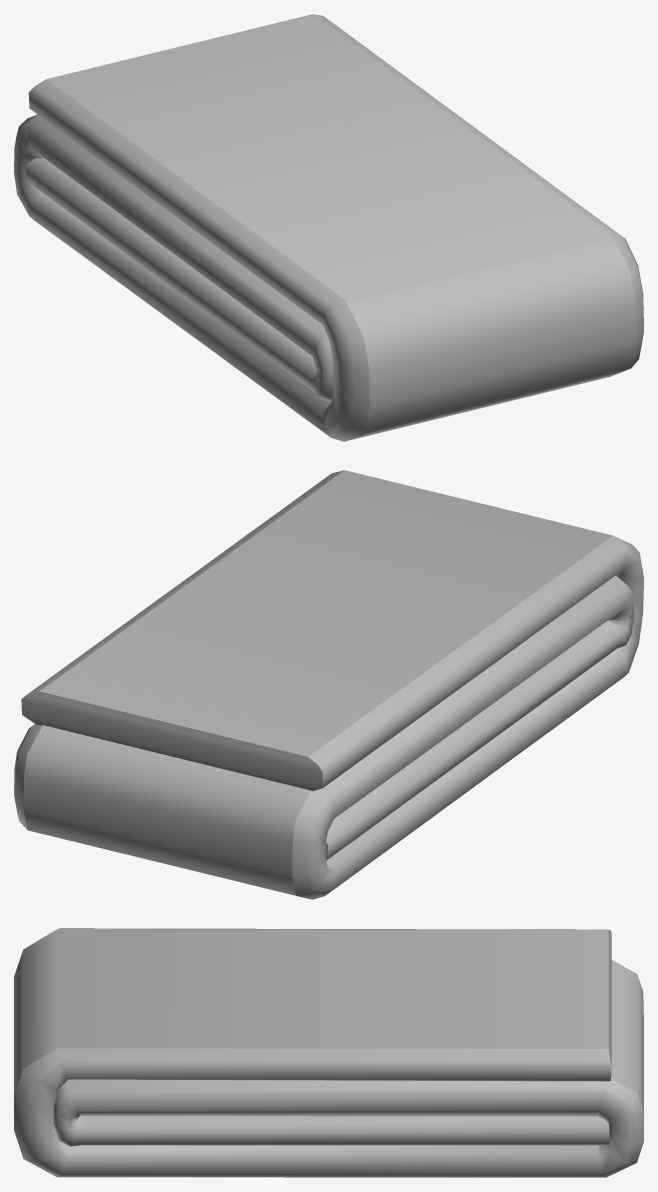
File: Towel_01.fbx
3 renders of one model, top to bottom at view 1: azimuth 30°, elevation 25°; view 2: azimuth 150°, elevation 25°; view 3: azimuth 270°, elevation 25°, orthographic. The views are drawn at different scales.
Visible parts, largest first — view 1: Towel_01; view 2: Towel_01; view 3: Towel_01.
Part boxes in pixels (x1,y1,x2,y2): Towel_01: (14, 14, 643, 441); Towel_01: (14, 470, 643, 899); Towel_01: (14, 928, 643, 1177).
Size of the model in its own units: 0.1136 by 0.0499 by 0.2192.
